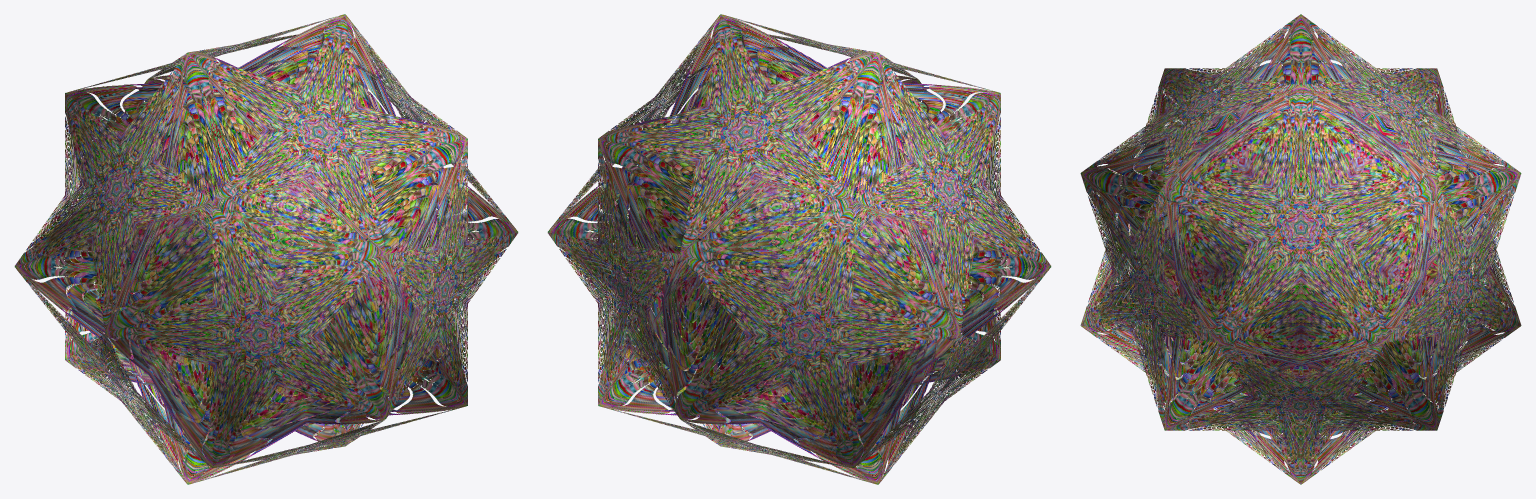
Rendered from 10DitrigonalDodecadodecahedron.gltf.
The picture shows the model from 3 angles, left to right: view 1: azimuth 30°, elevation 25°; view 2: azimuth 150°, elevation 25°; view 3: azimuth 270°, elevation 25°; orthographic projection. The views are drawn at different scales.
Visible parts, largest first — view 1: 7DitrigonalDodecadodecahedron; view 2: 7DitrigonalDodecadodecahedron; view 3: 7DitrigonalDodecadodecahedron.
Boxes of the visible parts, x1,y1,x2,y2 form: 7DitrigonalDodecadodecahedron: (14, 14, 518, 484); 7DitrigonalDodecadodecahedron: (547, 14, 1051, 484); 7DitrigonalDodecadodecahedron: (1080, 14, 1521, 484).
Bounding box in the file's own units: 1.62 × 1.62 × 1.62.
Materials: 1 (1 with a texture image).
